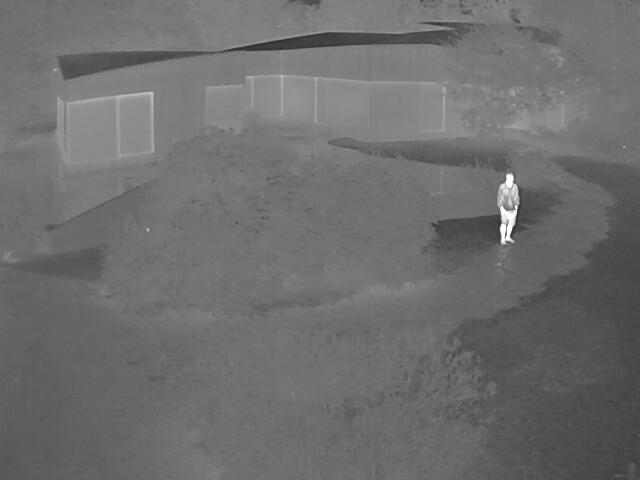person: (496, 171, 516, 247)
